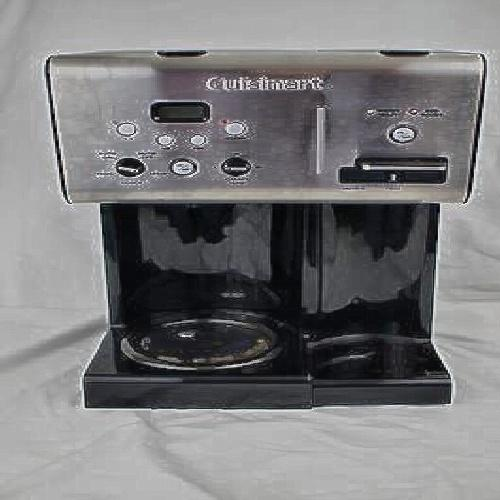coffee_maker: (47, 31, 483, 402)
